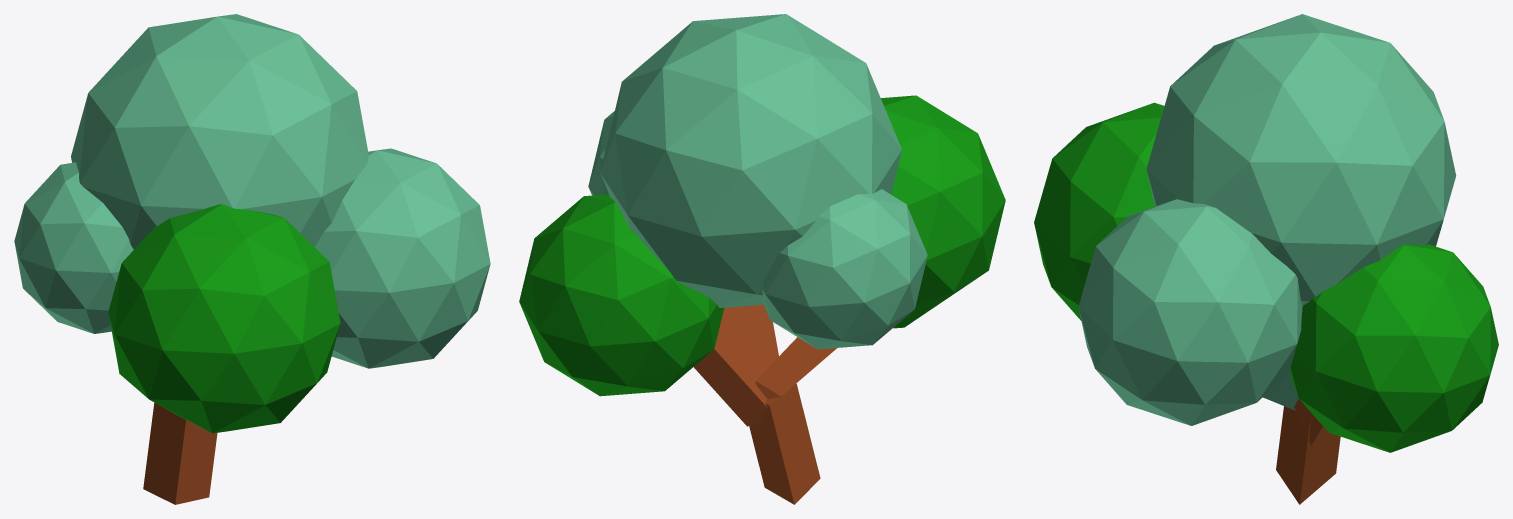
The picture shows the model from 3 angles, left to right: view 1: azimuth 30°, elevation 25°; view 2: azimuth 150°, elevation 25°; view 3: azimuth 270°, elevation 25°; orthographic projection. The views are drawn at different scales.
Visible parts, largest first — view 1: Icosphere.005; view 2: Icosphere.005; view 3: Icosphere.005.
Part boxes in pixels (x1,y1,x2,y2): Icosphere.005: (14,14,490,504); Icosphere.005: (519,14,1005,504); Icosphere.005: (1034,14,1498,504).
Bounding box in the file's own units: 9.14 × 10.63 × 9.3.
